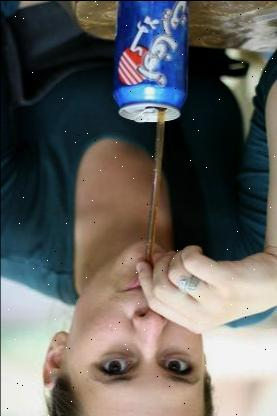Can: (112, 0, 190, 122)
